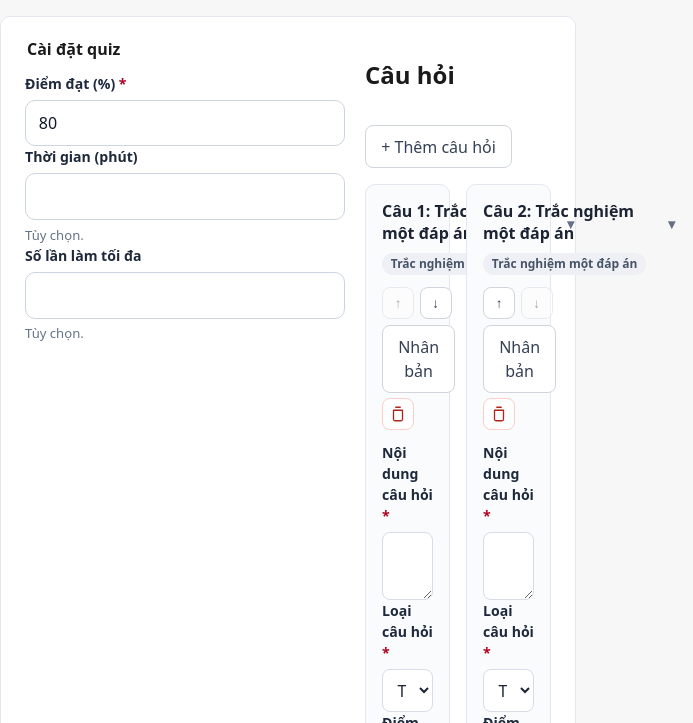
AdminQuizBuilderForm › removes a question with the delete control
The width and height of the screenshot is (693, 723).
Click the button named "Xóa câu 1" at {"x": 398, "y": 414}, box [382,398,414,430]
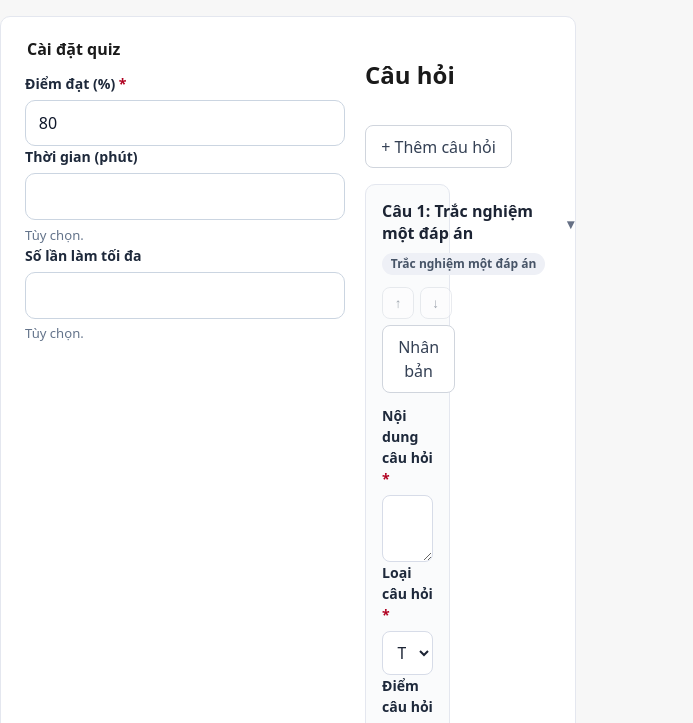
Expected: the button "Câu 2:" is gone
Expected: the text "Câu 1: Trắc nghiệm một đáp án" is shown, [382,200,533,244]
